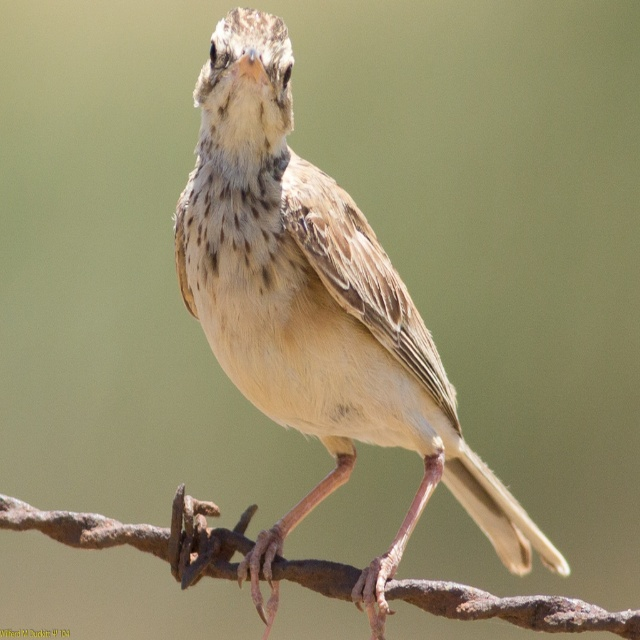Sparrow: (172, 7, 571, 640)
